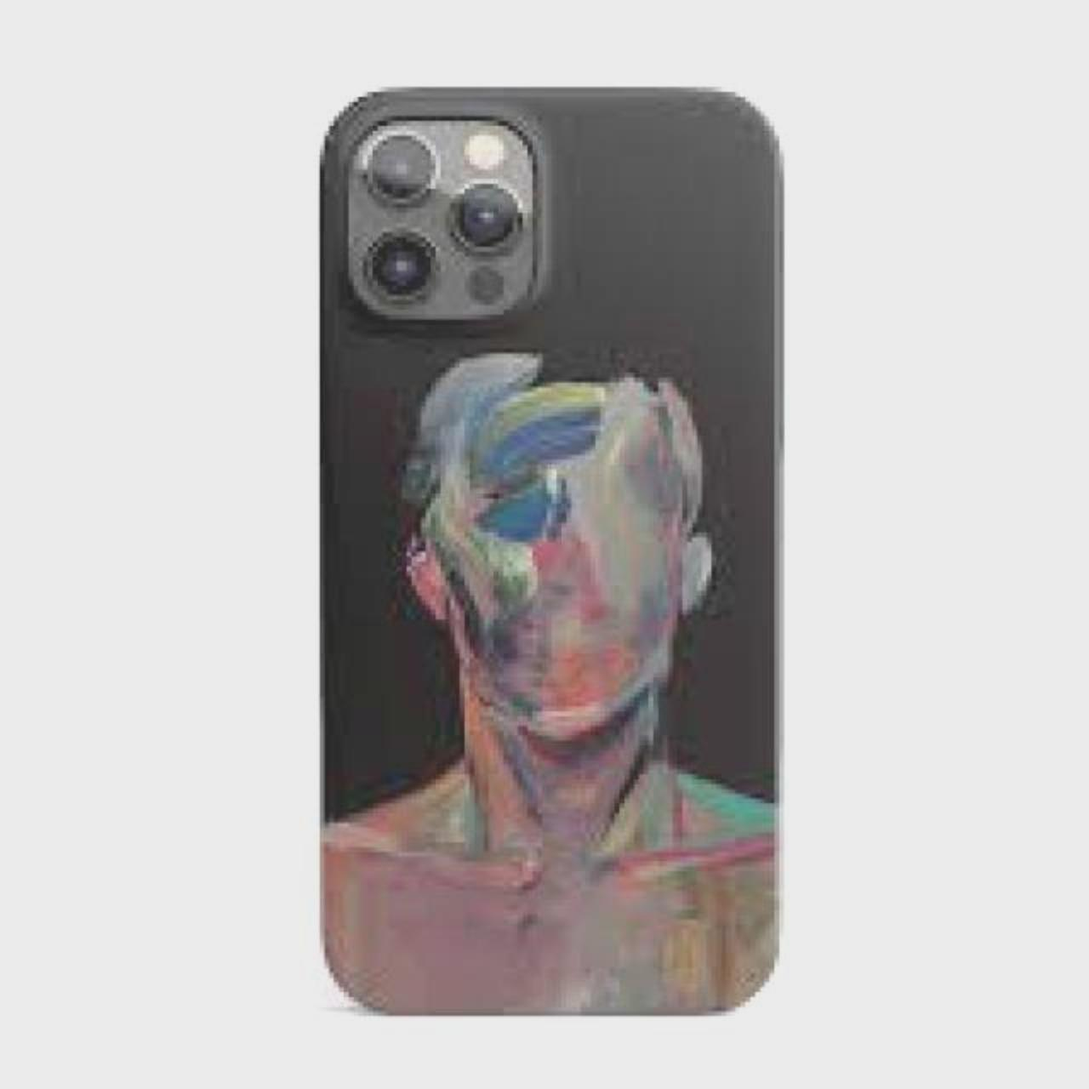phone: (314, 88, 787, 1018)
